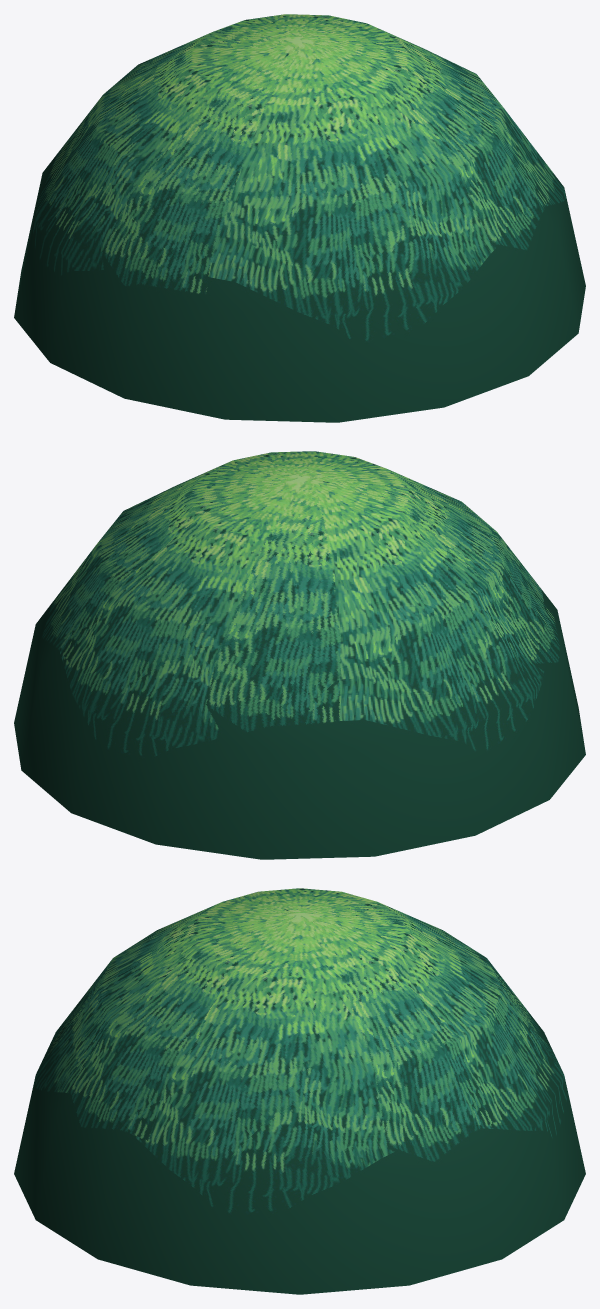
Rendered from treeSphere.glb.
The picture shows the model from 3 angles, top to bottom: view 1: azimuth 30°, elevation 25°; view 2: azimuth 150°, elevation 25°; view 3: azimuth 270°, elevation 25°; orthographic projection.
Parts seen in each view (by area): view 1: Sphere; view 2: Sphere; view 3: Sphere.
Boxes of the visible parts, x1,y1,x2,y2 form: Sphere: (14, 14, 585, 422); Sphere: (14, 451, 585, 859); Sphere: (14, 888, 585, 1294).
Size of the model in its own units: 2 by 1 by 2.
1 material, 1 textured.
